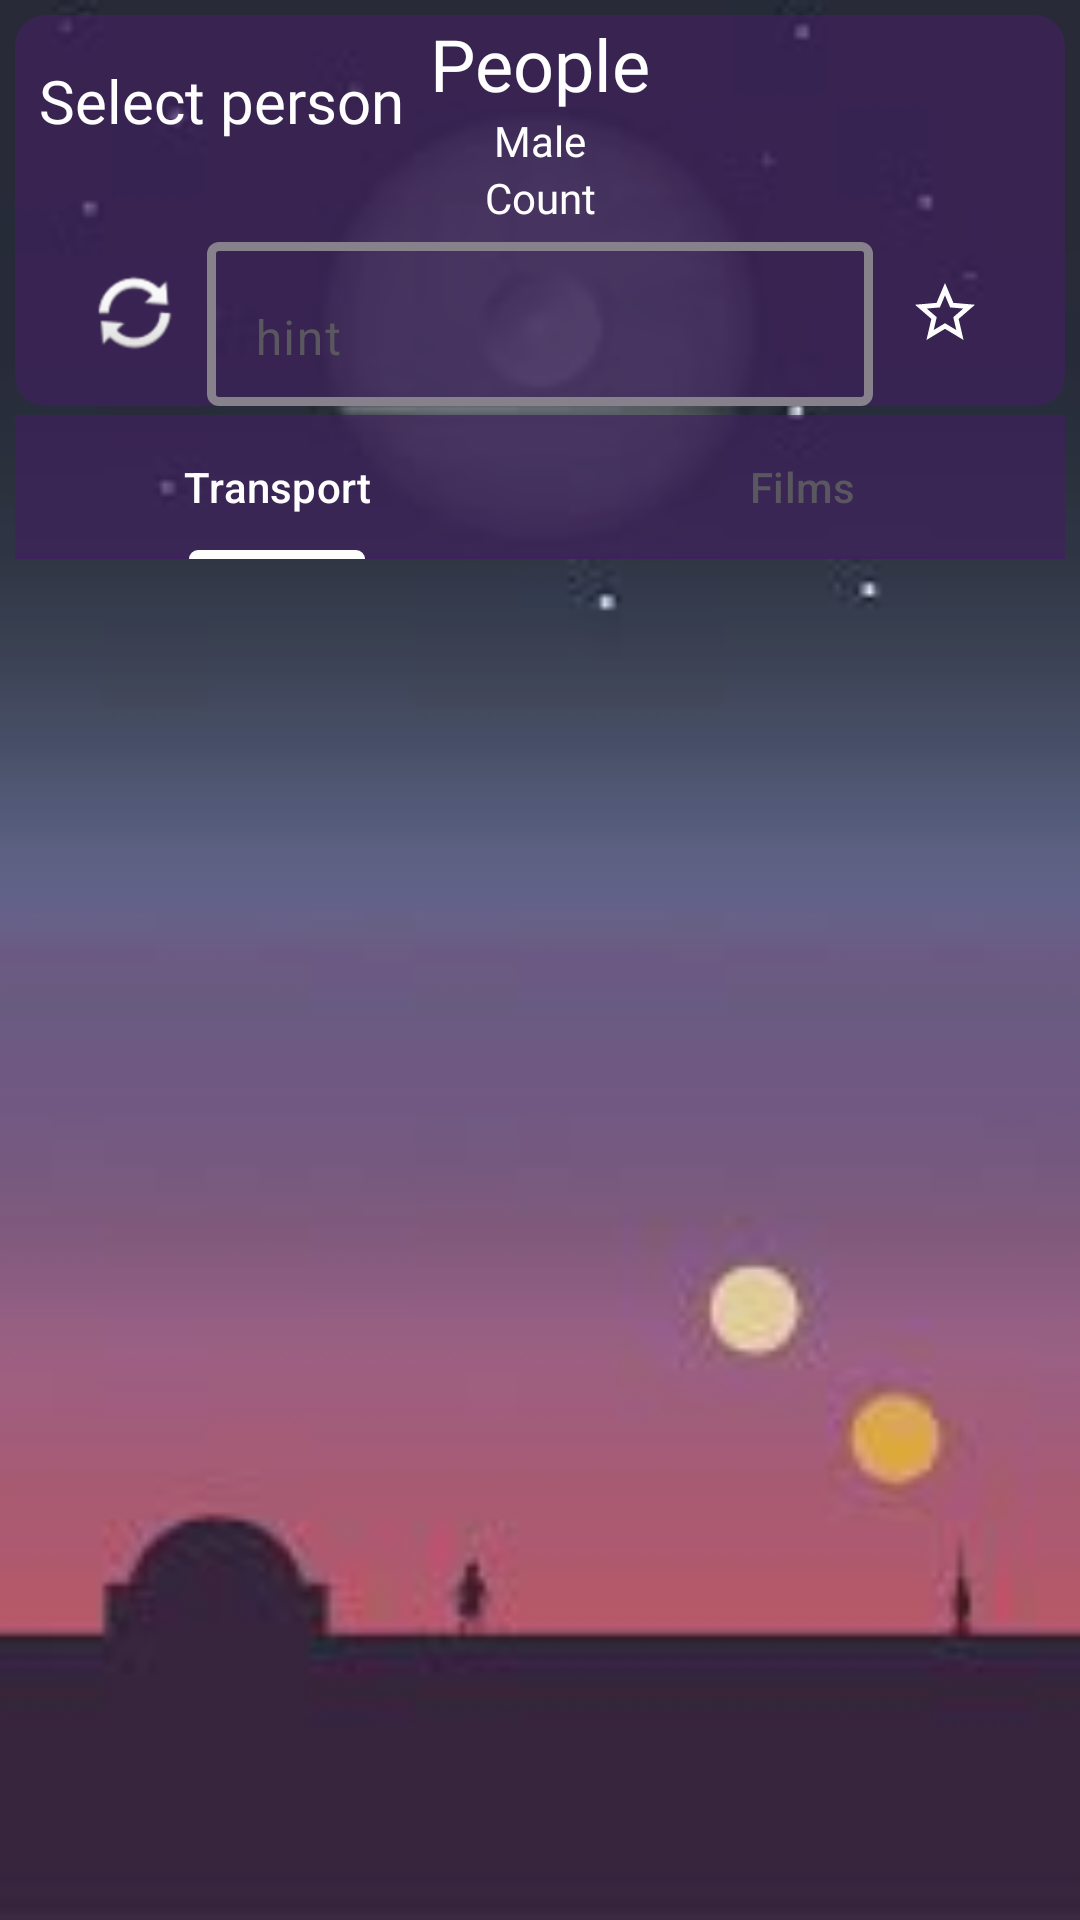

Where to tap for icons on this 1080×1920 app screen, as [x,y]:
popup sync: [134,313]
